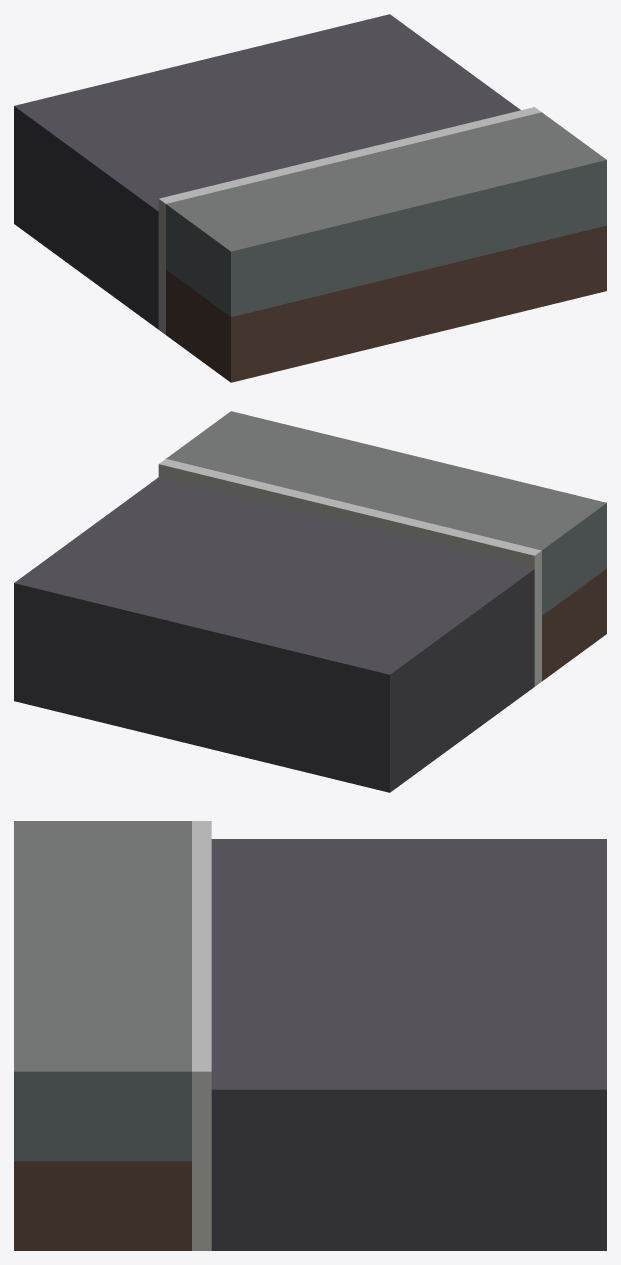
File: TB_CITY_Road_D.FBX
3 renders of one model, top to bottom at view 1: azimuth 30°, elevation 25°; view 2: azimuth 150°, elevation 25°; view 3: azimuth 270°, elevation 25°, orthographic. The views are drawn at different scales.
Visible parts, largest first — view 1: TB_CITY_Road_D; view 2: TB_CITY_Road_D; view 3: TB_CITY_Road_D.
Part boxes in pixels (x1,y1,x2,y2): TB_CITY_Road_D: [14, 14, 606, 382]; TB_CITY_Road_D: [14, 411, 606, 792]; TB_CITY_Road_D: [14, 821, 606, 1250].
Bounding box in the file's own units: 30 × 10 × 30.
